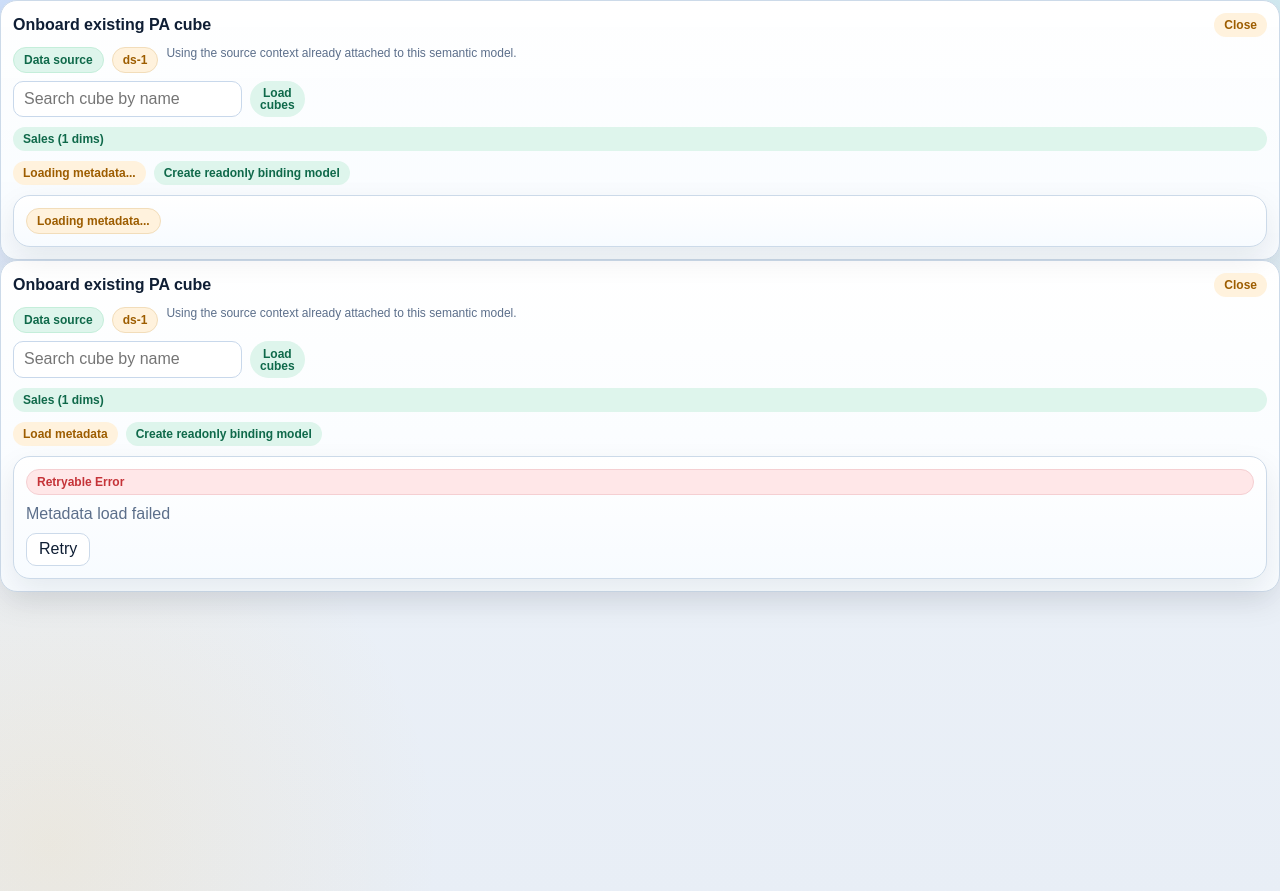
OnboardFromPADrawer shared states › renders shared metadata loading, error, empty, and ready states
The width and height of the screenshot is (1280, 891).
Expected: the element with test id "loadable-loading-state" reads "Loading metadata...", [37, 214, 150, 228]
Expected: the element with test id "loadable-error-state" shows "Metadata load failed", [26, 505, 170, 522]
What coordinates should you click on to do the following:
click the button with test id "loadable-retry-action"
I would click on:
 (58, 549)
Its box is [26, 533, 90, 566].
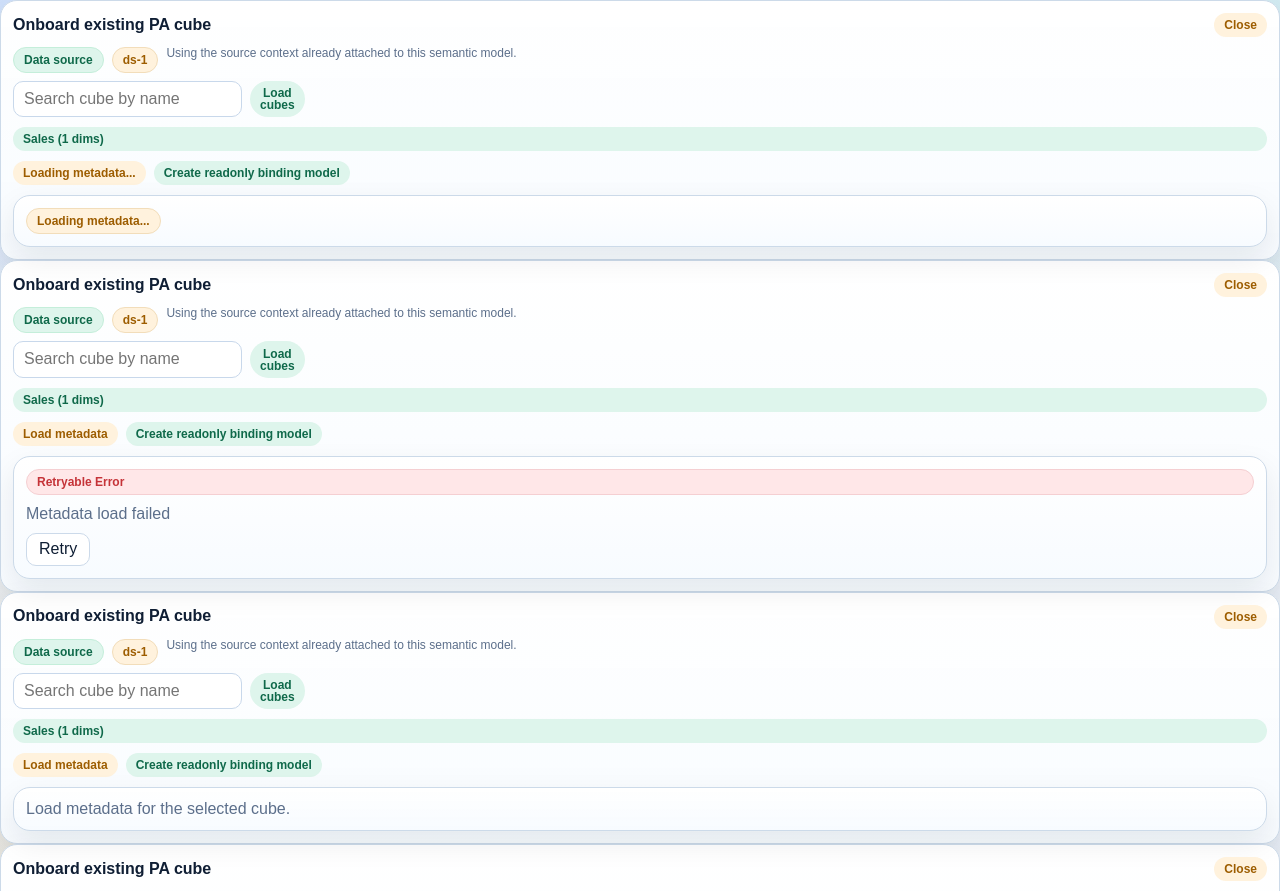
Expected: the element with test id "loadable-empty-state" reads "Load metadata for the selected cube.", [26, 800, 290, 817]
